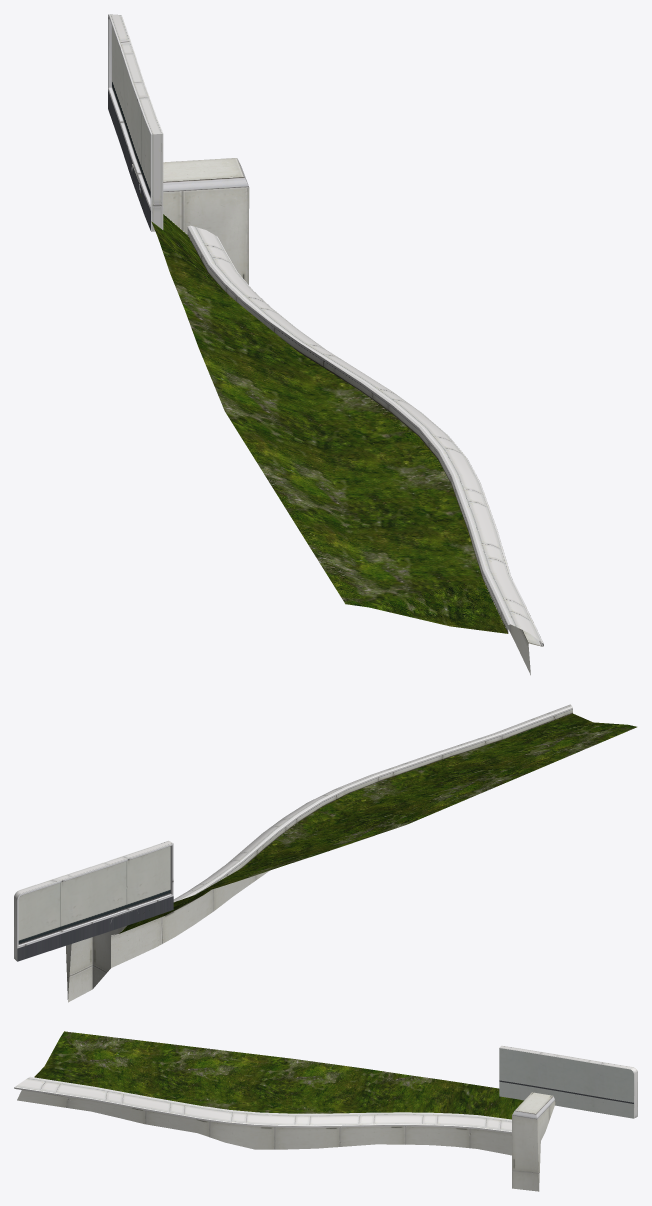
Rendered from sta20_storegarden.FBX.
3 renders of one model, top to bottom at view 1: azimuth 30°, elevation 25°; view 2: azimuth 150°, elevation 25°; view 3: azimuth 270°, elevation 25°, orthographic. The views are drawn at different scales.
Parts seen in each view (by area): view 1: sta20_storegarden; view 2: sta20_storegarden; view 3: sta20_storegarden.
Part boxes in pixels (x1,y1,x2,y2): sta20_storegarden: (108, 14, 543, 675); sta20_storegarden: (14, 704, 636, 1002); sta20_storegarden: (14, 1031, 637, 1191).
Size of the model in its own units: 17.24 by 10.54 by 50.61.
